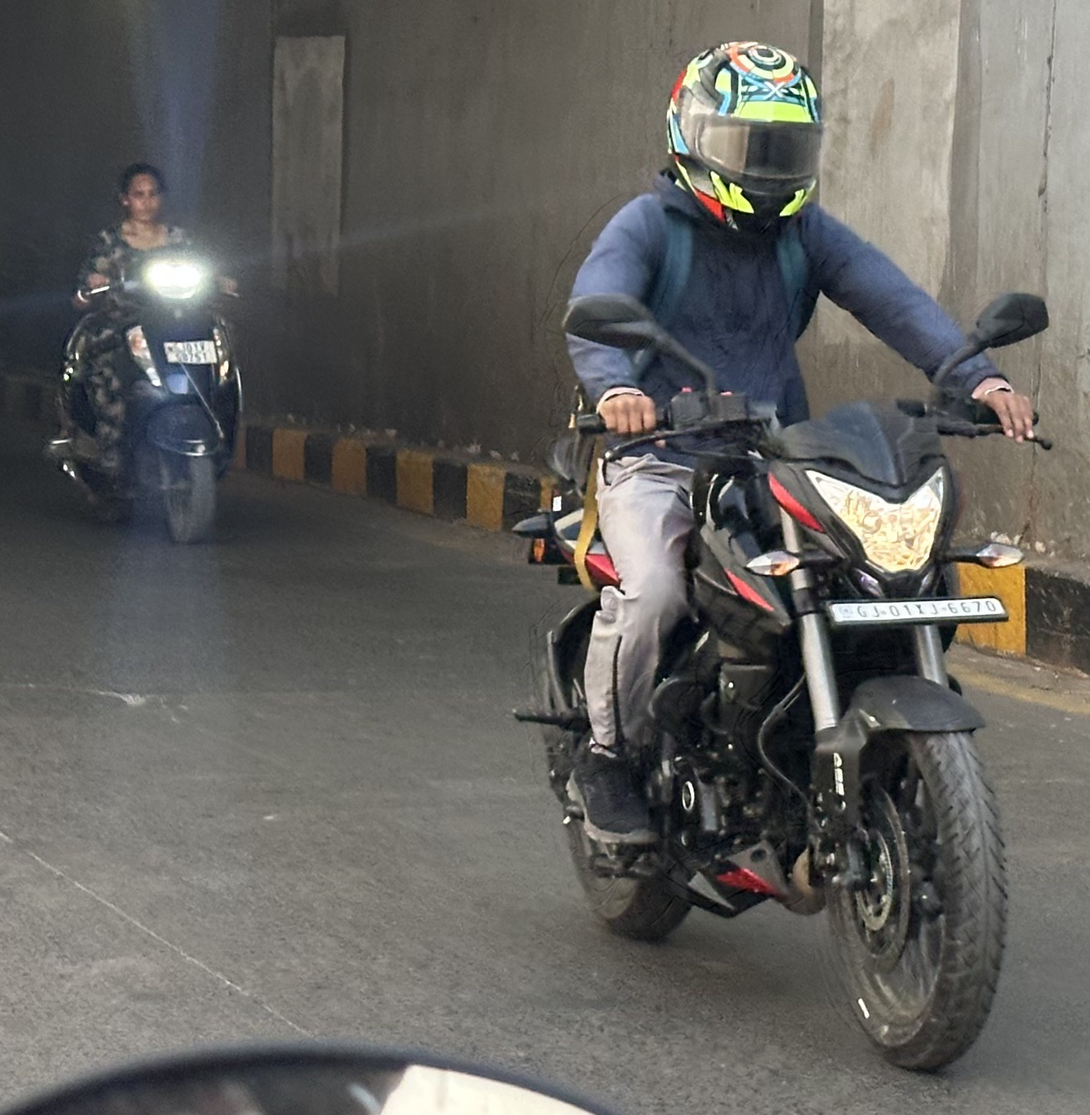BikeWithRider: (492, 25, 1067, 1087), (34, 150, 268, 554)
Helmet: (644, 29, 846, 241)
NoHelmet: (102, 154, 181, 229)
